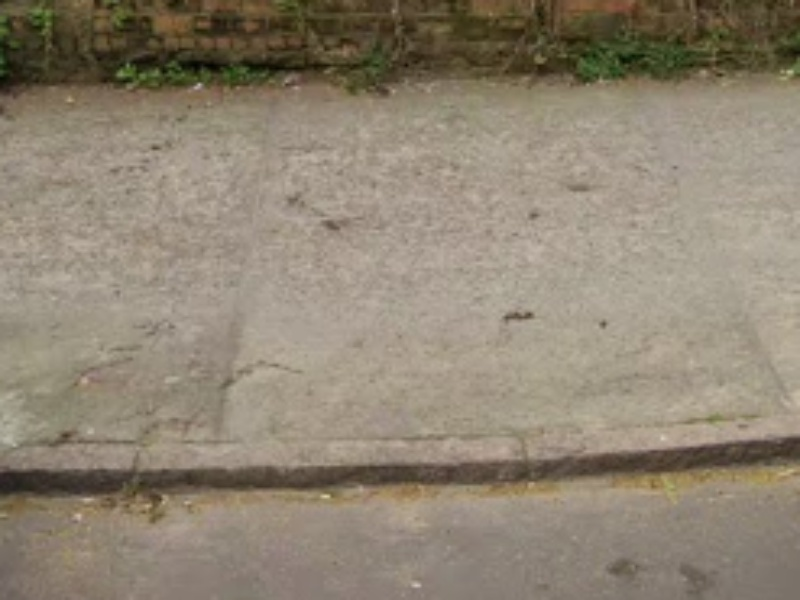v47: (1, 373, 790, 548)
